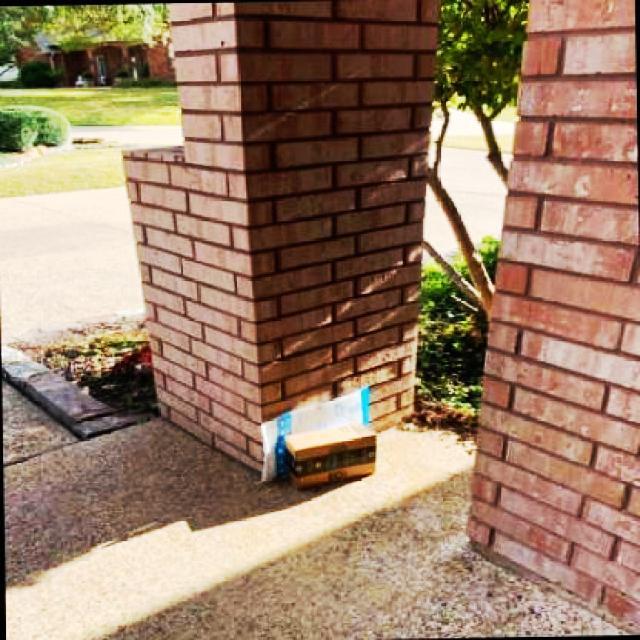Box: (258, 385, 369, 484), (282, 422, 376, 489)
